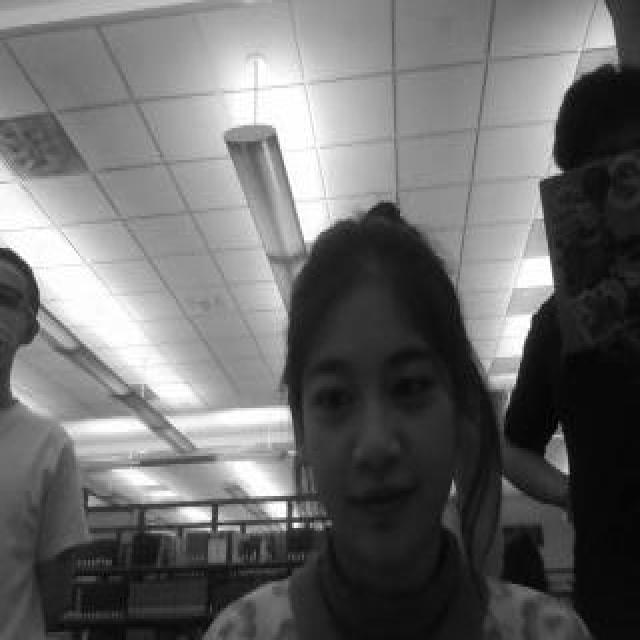Focused: (294, 323, 465, 557)
